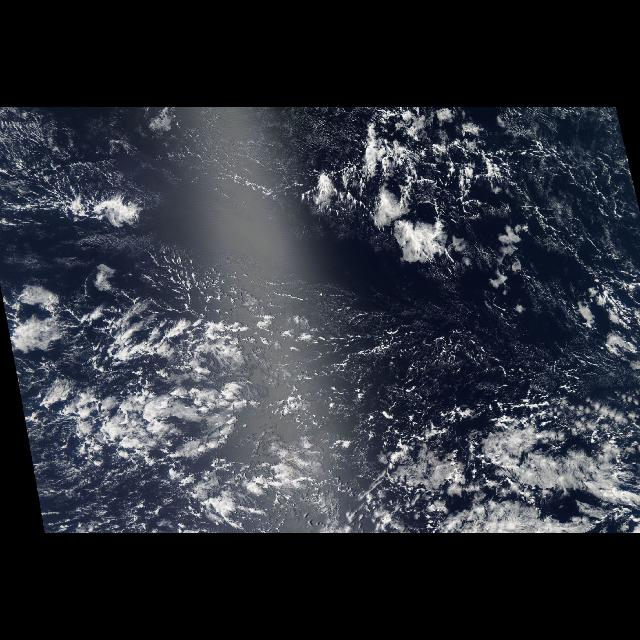Gravel: (254, 110, 634, 430)
